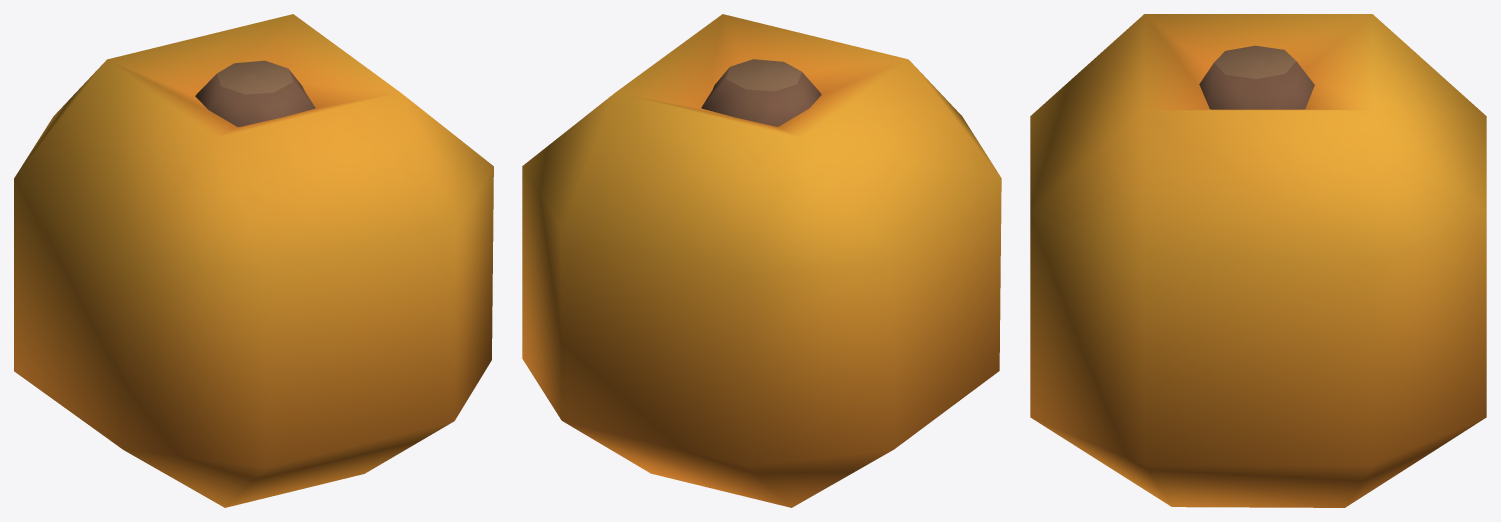
The model's file is orange.fbx.
3 views of the same model, side by side, from view 1: azimuth 30°, elevation 25°; view 2: azimuth 150°, elevation 25°; view 3: azimuth 270°, elevation 25° (orthographic). The views are drawn at different scales.
Parts seen in each view (by area): view 1: orange; view 2: orange; view 3: orange.
Part boxes in pixels (x1,y1,x2,y2): orange: (14, 14, 493, 507); orange: (522, 14, 1001, 507); orange: (1030, 14, 1486, 507).
Bounding box in the file's own units: 17.18 × 17.02 × 17.18.
